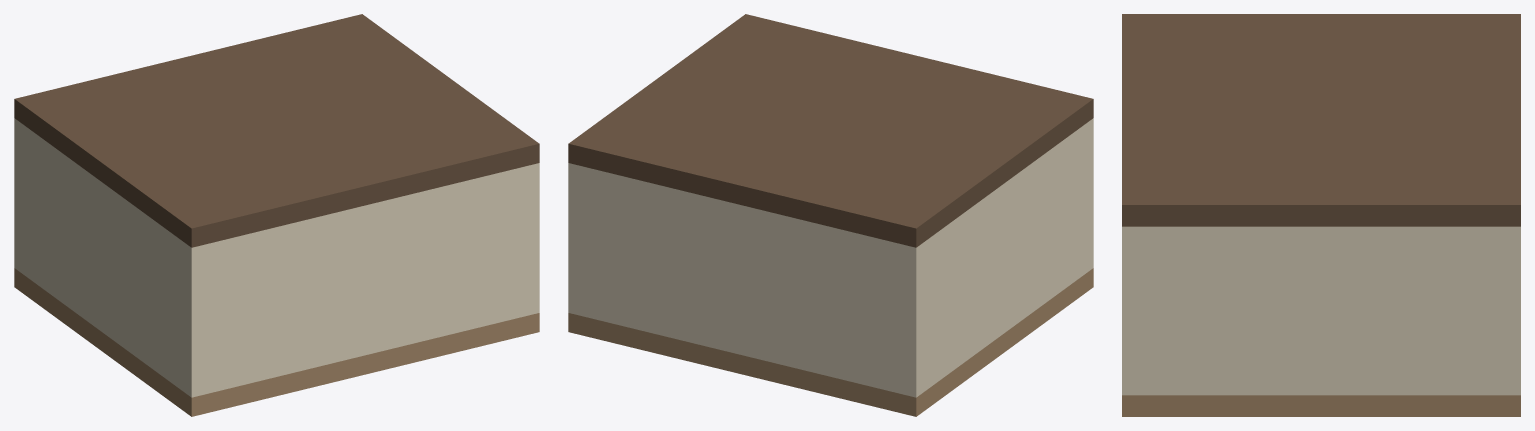
The model's file is casita_b.glb.
3 views of the same model, side by side, from view 1: azimuth 30°, elevation 25°; view 2: azimuth 150°, elevation 25°; view 3: azimuth 270°, elevation 25° (orthographic). The views are drawn at different scales.
Visible parts, largest first — view 1: Techo_interior, Pared_sur, Pared_oeste, Suelo, Pared_norte; view 2: Techo_interior, Pared_norte, Pared_oeste, Suelo, Pared_sur; view 3: Techo_interior, Pared_este, Suelo, Pared_norte, Pared_sur.
Boxes of the visible parts, box(x1,y1,x2,y2) form: Techo_interior: box(14, 14, 539, 247); Pared_sur: box(181, 163, 539, 397); Pared_oeste: box(25, 126, 180, 389); Suelo: box(14, 268, 539, 416); Pared_norte: box(14, 118, 24, 275); Techo_interior: box(568, 14, 1093, 247); Pared_norte: box(568, 163, 926, 397); Pared_oeste: box(927, 126, 1082, 389); Suelo: box(568, 268, 1093, 416); Pared_sur: box(1083, 118, 1093, 275); Techo_interior: box(1122, 14, 1520, 226); Pared_este: box(1146, 226, 1496, 395); Suelo: box(1122, 395, 1520, 416); Pared_norte: box(1497, 226, 1520, 395); Pared_sur: box(1122, 226, 1145, 395).
Size of the model in its own units: 8.5 by 4.4 by 7.5.
